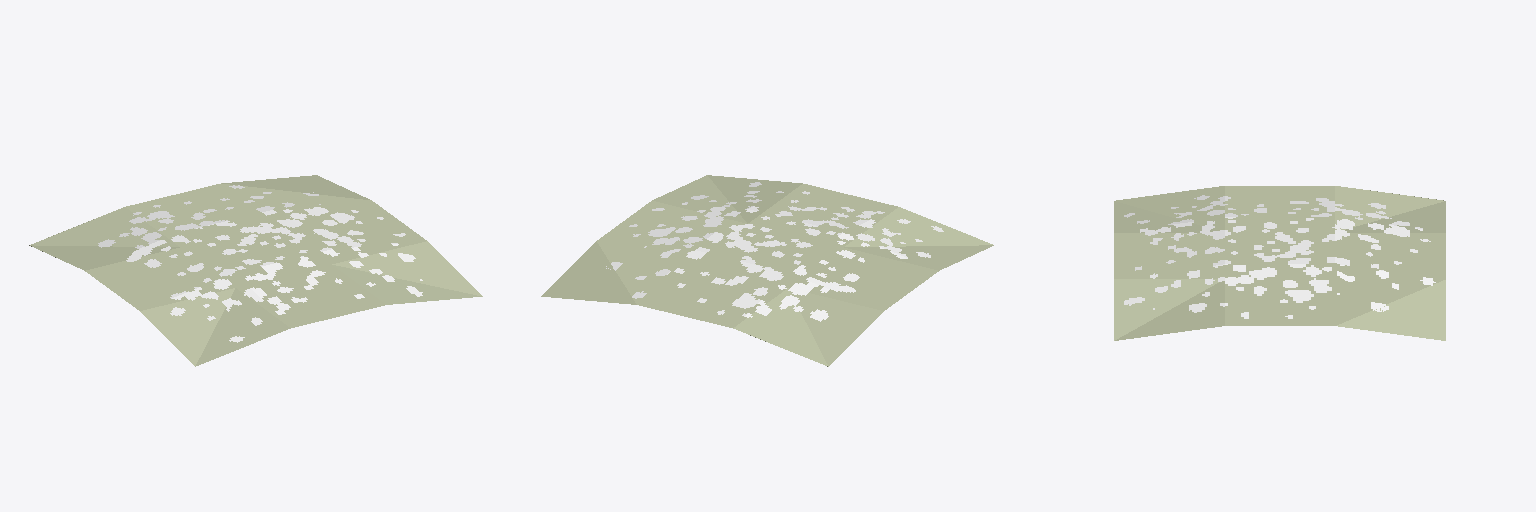
3 renders of one model, left to right at view 1: azimuth 30°, elevation 25°; view 2: azimuth 150°, elevation 25°; view 3: azimuth 270°, elevation 25°, orthographic.
Visible parts, largest first — view 1: image2; view 2: image2; view 3: image2.
Part boxes in pixels (left/top/right/bottom): image2: left=29, top=175, right=482, bottom=366; image2: left=541, top=175, right=993, bottom=366; image2: left=1114, top=186, right=1445, bottom=340.
Bounding box in the file's own units: 2 × 0.201 × 2.
2 materials, 1 textured.